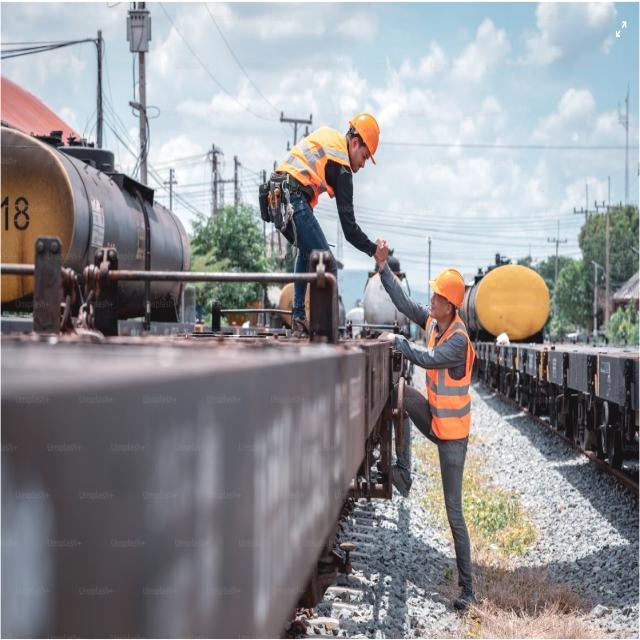Con_Casco: (348, 112, 382, 172), (428, 267, 466, 317)
Con_Chaleco: (423, 319, 474, 437), (275, 128, 347, 200)
